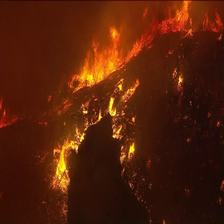fire: (50, 99, 154, 212), (54, 12, 199, 91)
